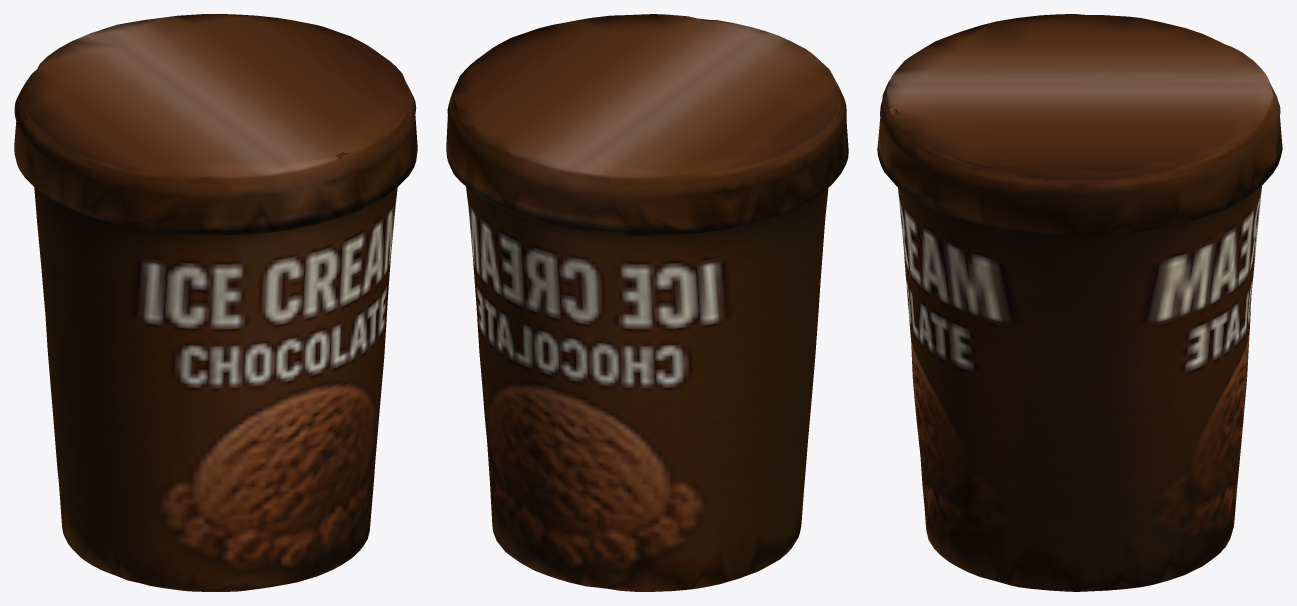
Rendered from PotGlaceChocolat.fbx.
3 renders of one model, left to right at view 1: azimuth 30°, elevation 25°; view 2: azimuth 150°, elevation 25°; view 3: azimuth 270°, elevation 25°, orthographic.
Visible parts, largest first — view 1: Mesh1.0; view 2: Mesh1.0; view 3: Mesh1.0.
Boxes of the visible parts, x1=… form: Mesh1.0: x1=14, y1=14, x2=417, y2=591; Mesh1.0: x1=446, y1=14, x2=848, y2=591; Mesh1.0: x1=877, y1=14, x2=1282, y2=591.
Bounding box in the file's own units: 170 × 201 × 170.
Materials: 1 (1 with a texture image).
